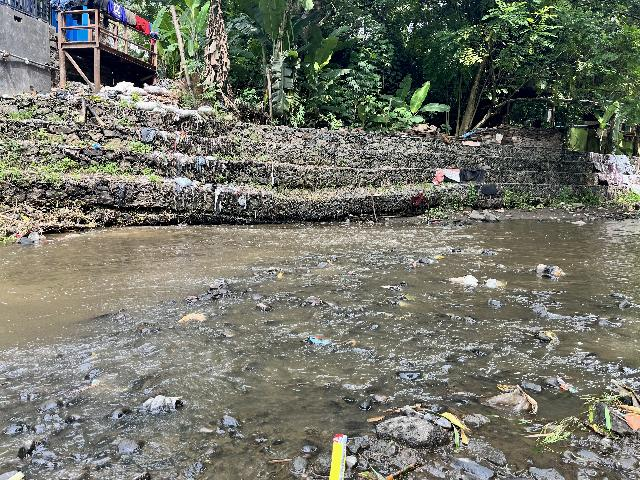Sampah Anorganik: (485, 382, 537, 416), (333, 429, 346, 480), (532, 260, 571, 277), (445, 276, 481, 293), (549, 375, 578, 396), (300, 331, 332, 350), (486, 277, 503, 293), (379, 284, 402, 292), (430, 254, 445, 262)
Sampah Organik: (380, 404, 471, 452), (585, 373, 640, 442), (522, 419, 586, 452), (363, 467, 412, 480), (536, 328, 559, 348), (175, 312, 208, 323), (68, 384, 97, 392), (181, 293, 199, 303), (339, 338, 357, 348), (268, 457, 292, 464), (395, 300, 410, 307), (309, 300, 321, 307), (326, 259, 335, 267), (405, 294, 415, 301), (412, 260, 417, 269), (278, 272, 283, 279), (347, 271, 352, 275)
